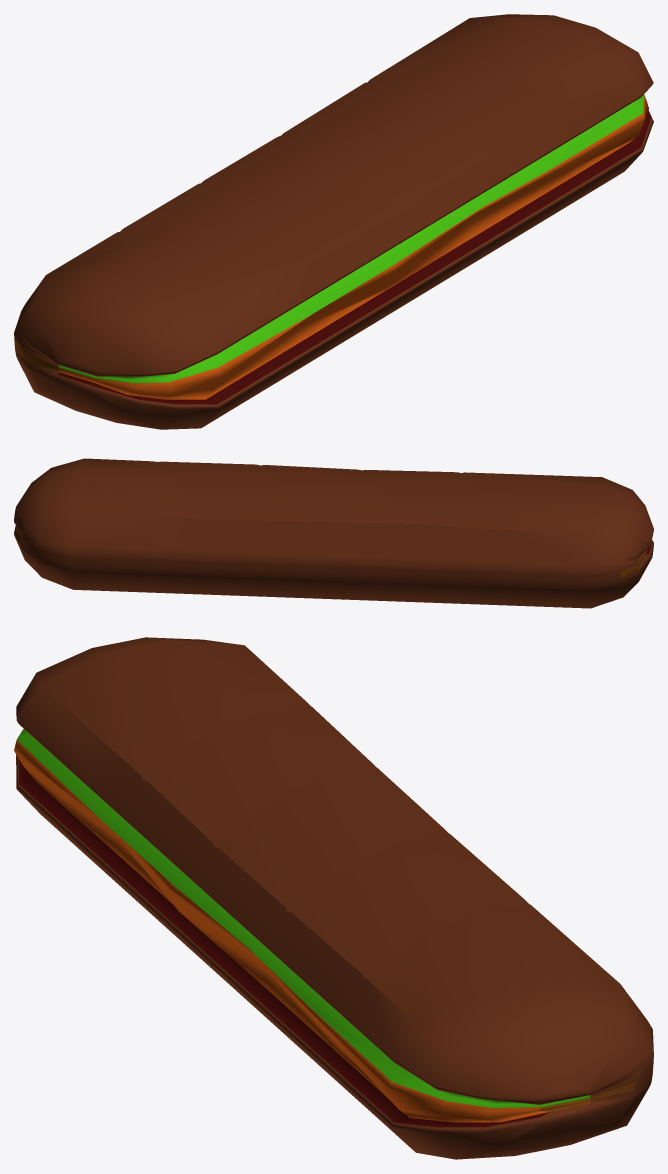
The model's file is Food Court_Sub Sandwich.fbx.
The picture shows the model from 3 angles, top to bottom: view 1: azimuth 30°, elevation 25°; view 2: azimuth 150°, elevation 25°; view 3: azimuth 270°, elevation 25°; orthographic projection. The views are drawn at different scales.
Visible parts, largest first — view 1: pCube57; view 2: pCube57; view 3: pCube57.
Part boxes in pixels (<box>): pCube57: <box>14,14,653,429</box>; pCube57: <box>14,458,653,608</box>; pCube57: <box>14,637,653,1159</box>.
Size of the model in its own units: 1.12 by 0.1909 by 0.7033.
